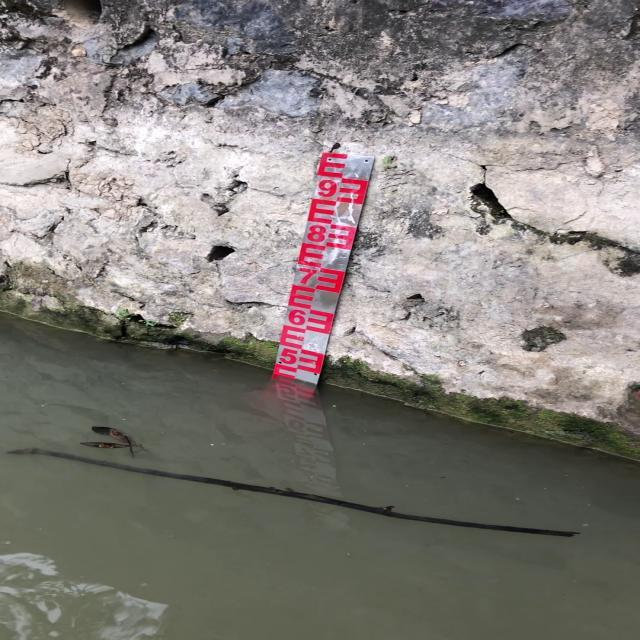ruler: (262, 146, 376, 394)
value: (313, 176, 341, 201), (283, 305, 308, 329), (294, 266, 319, 290), (277, 344, 301, 368), (305, 220, 329, 244)
